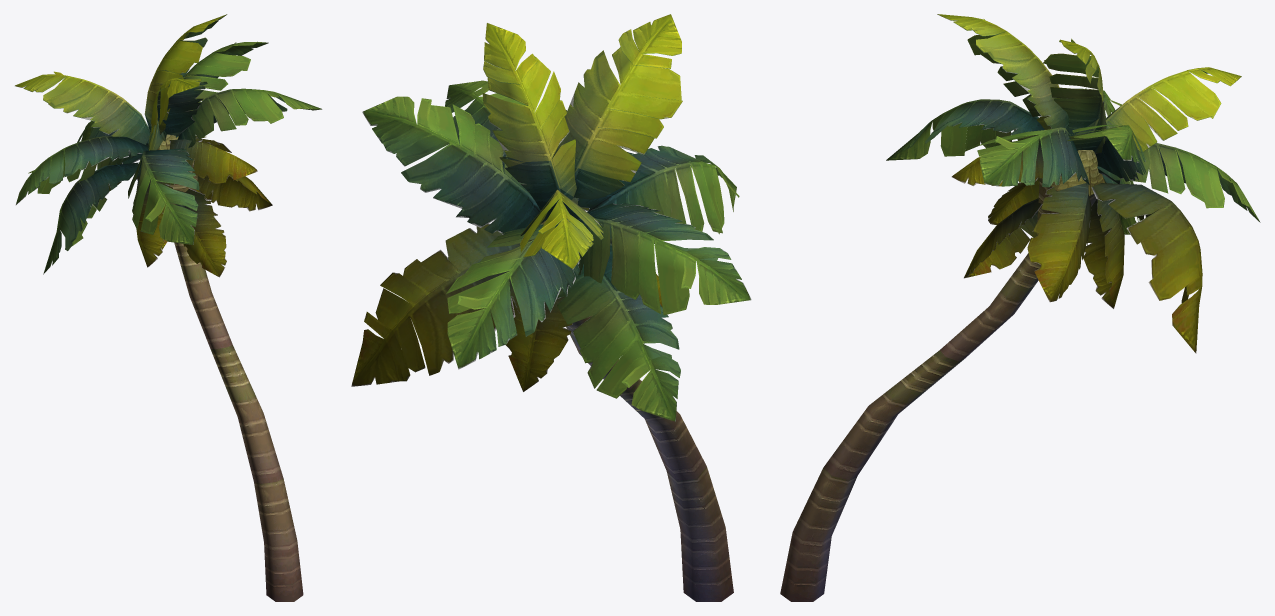
File: scenes_beach_coconut01a.FBX
3 renders of one model, left to right at view 1: azimuth 30°, elevation 25°; view 2: azimuth 150°, elevation 25°; view 3: azimuth 270°, elevation 25°, orthographic. The views are drawn at different scales.
Visible parts, largest first — view 1: scenes_beach_coconut01a; view 2: scenes_beach_coconut01a; view 3: scenes_beach_coconut01a.
Boxes of the visible parts, x1=… form: scenes_beach_coconut01a: x1=15, y1=14, x2=322, y2=601; scenes_beach_coconut01a: x1=351, y1=14, x2=751, y2=601; scenes_beach_coconut01a: x1=780, y1=14, x2=1260, y2=601.
Bounding box in the file's own units: 416 × 717 × 540.
